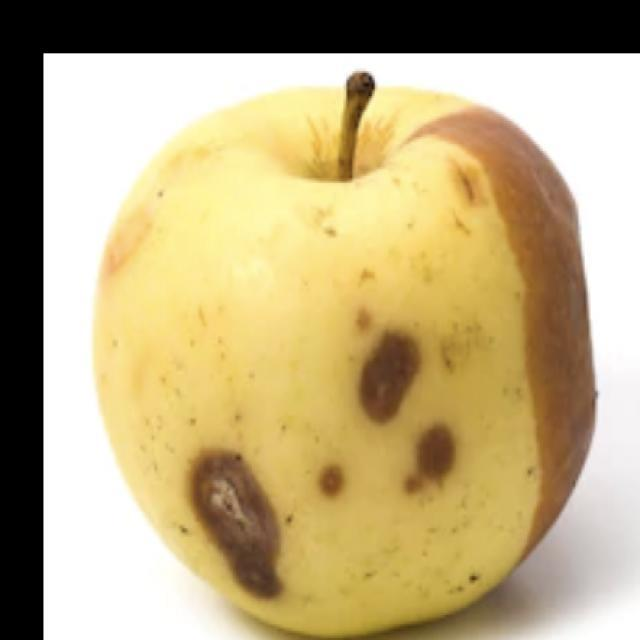Rotten: (118, 83, 585, 640)
